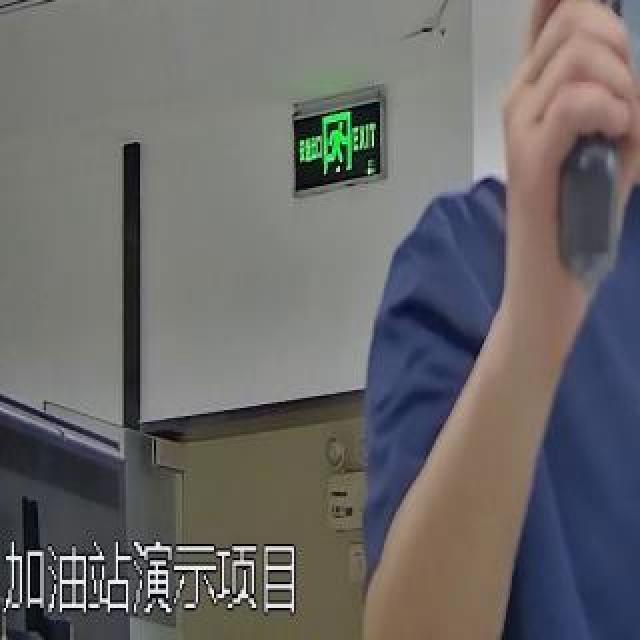Guns: (536, 0, 640, 282)
